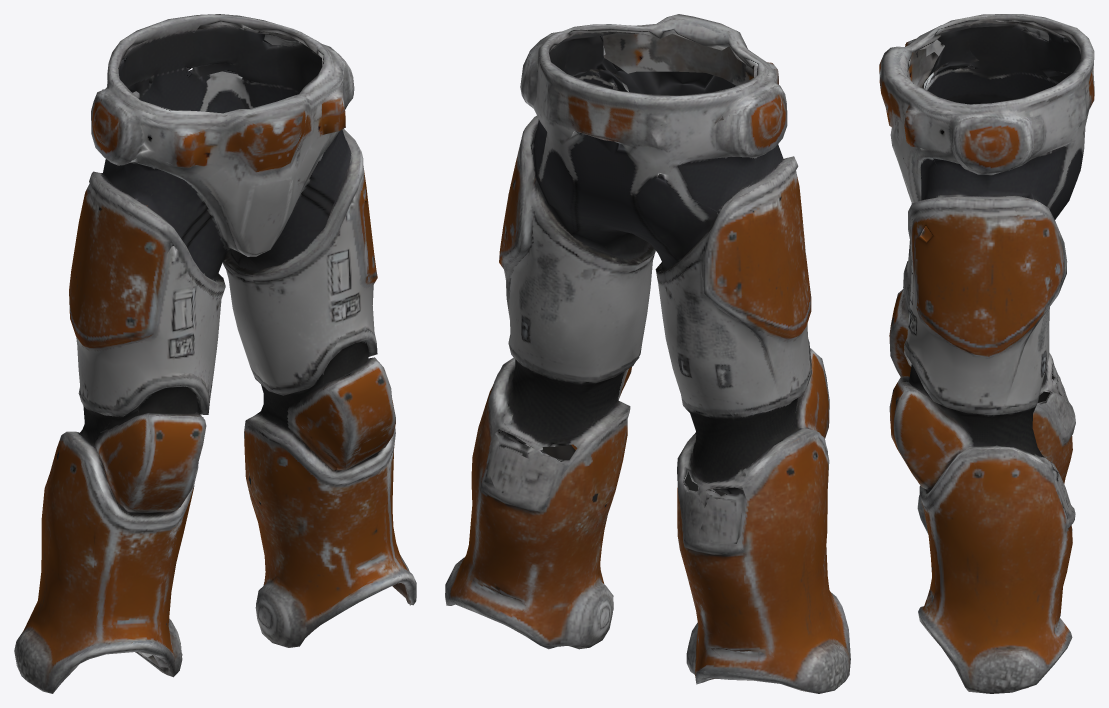
Rendered from 3d_generated_mesh_bottoms_processed.glb.
3 views of the same model, side by side, from view 1: azimuth 30°, elevation 25°; view 2: azimuth 150°, elevation 25°; view 3: azimuth 270°, elevation 25° (orthographic). The views are drawn at different scales.
Parts seen in each view (by area): view 1: RBX_LC_bottoms; view 2: RBX_LC_bottoms; view 3: RBX_LC_bottoms.
Part boxes in pixels (left/top/right/bottom): RBX_LC_bottoms: left=14, top=14, right=416, bottom=693; RBX_LC_bottoms: left=445, top=14, right=850, bottom=693; RBX_LC_bottoms: left=879, top=14, right=1094, bottom=693.
Size of the model in its own units: 0.6641 by 1 by 0.342.
1 material, 1 textured.
